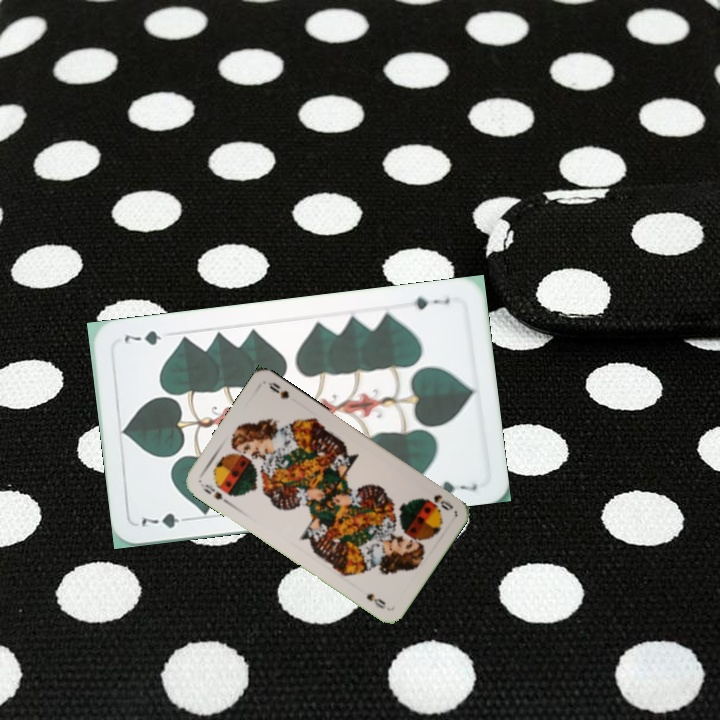G7: (136, 509, 195, 531), (409, 293, 452, 312)
SO: (196, 479, 232, 507), (422, 490, 456, 514)
